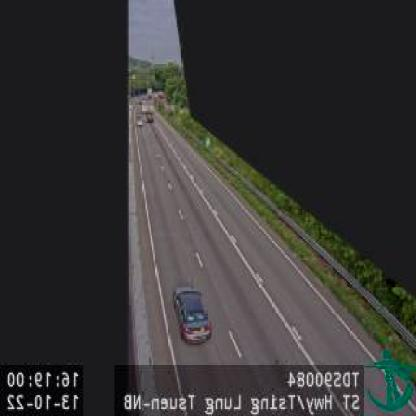Car: (174, 284, 212, 345)
